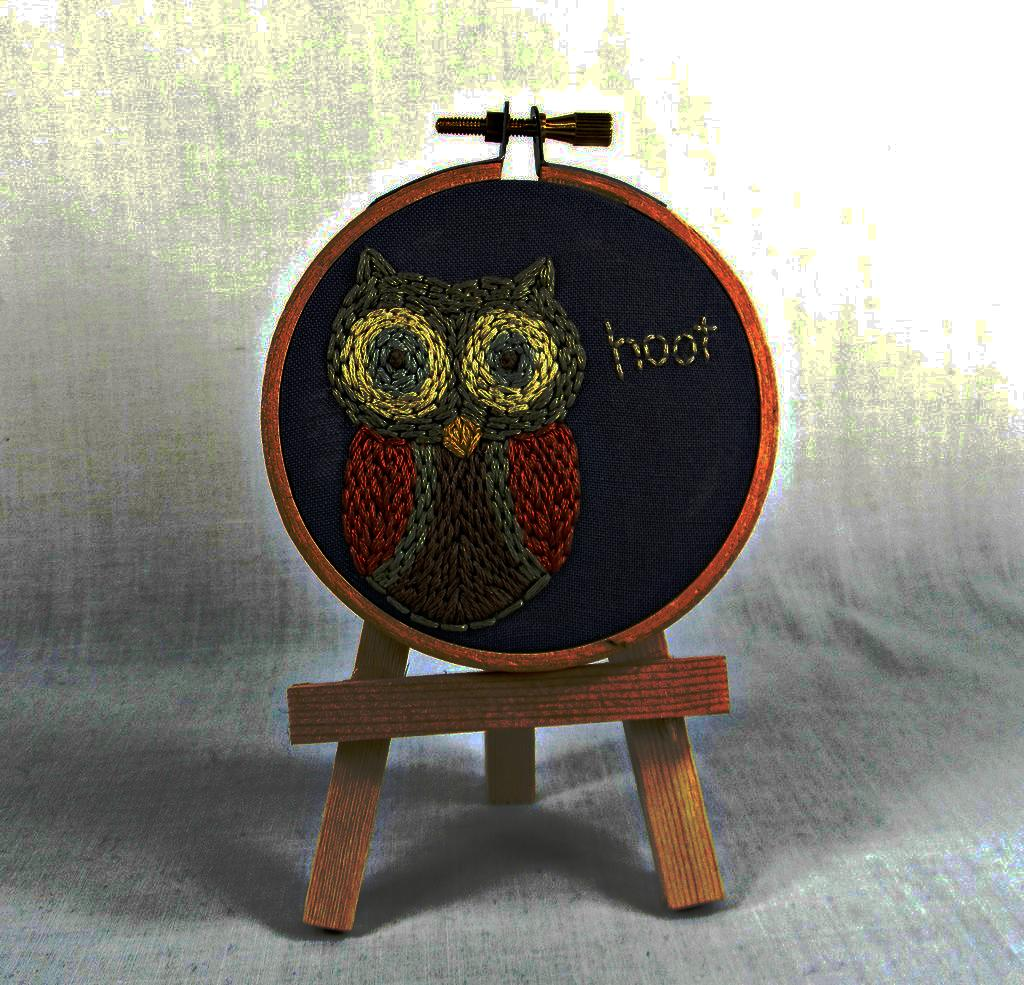Owl: (322, 262, 586, 622)
